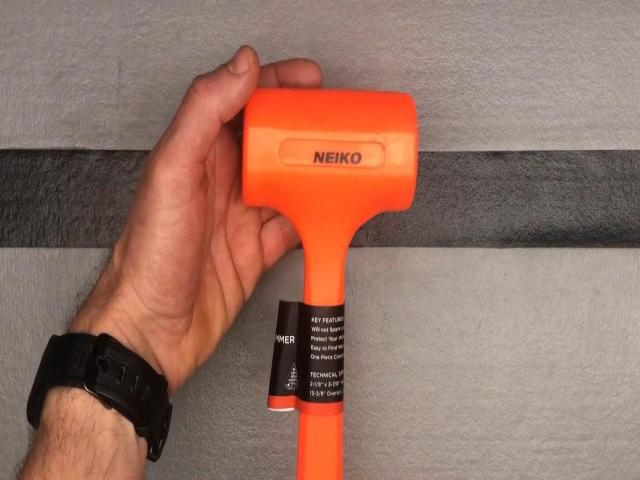hammer: (240, 88, 418, 480)
